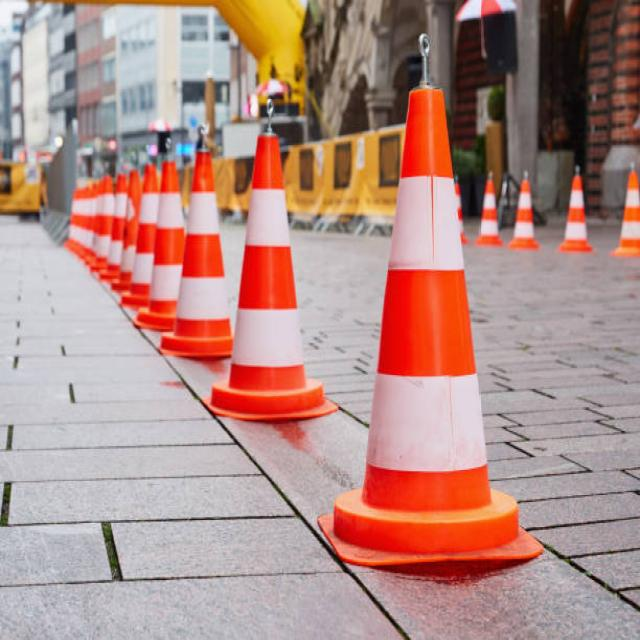Traffic Cone: (320, 28, 562, 599), (205, 91, 336, 425), (152, 113, 243, 368), (506, 154, 550, 270), (554, 155, 600, 263)
